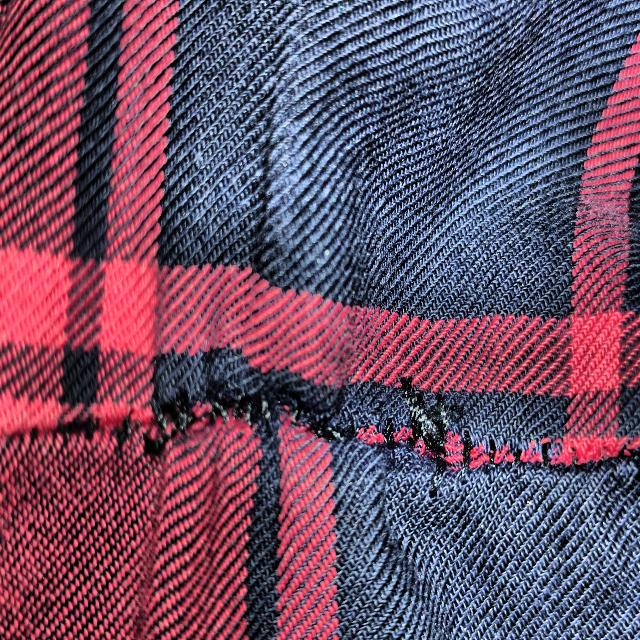Stitch: (135, 360, 574, 490)
